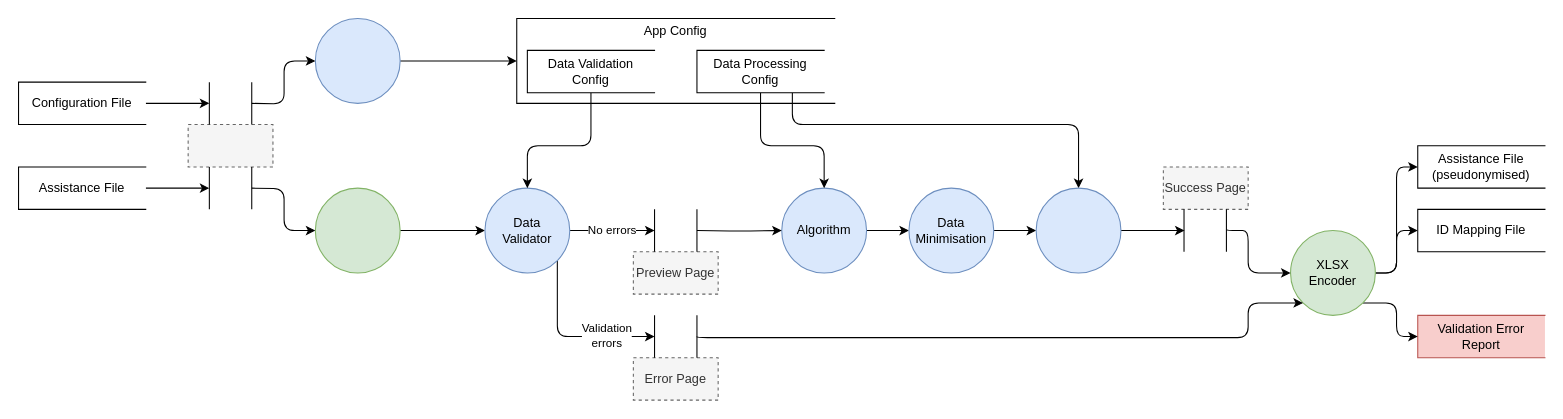
Image size: 1563x419. Some labels were removed from this diagram. Here are the shapes that lost their labels. From the top down, the centre of each, then its label:
(x=357, y=60): Configuration Updater
(x=230, y=145): Submit File UI
(x=357, y=230): XLSX Decoder
(x=1078, y=230): Metadata Signing
